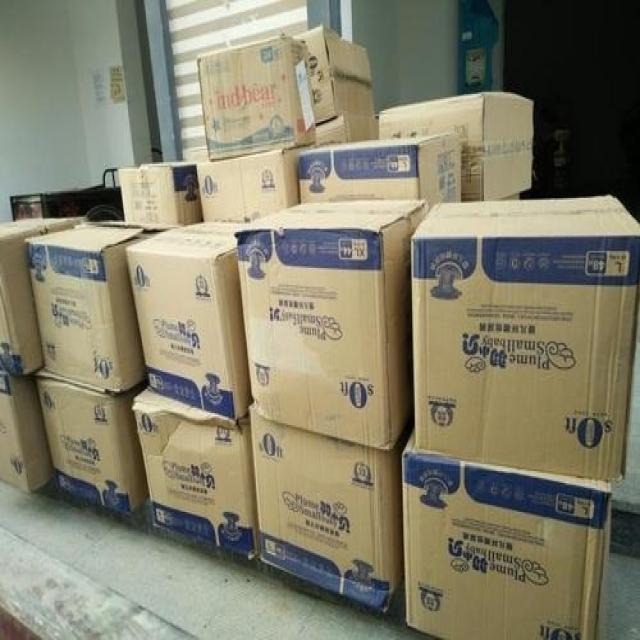box: (412, 196, 639, 480), (234, 200, 431, 450), (402, 428, 610, 638), (250, 415, 415, 612), (25, 220, 180, 394), (128, 224, 252, 419), (131, 388, 260, 560), (34, 371, 151, 517), (380, 92, 532, 202), (198, 36, 317, 159), (0, 216, 87, 376), (297, 132, 462, 204), (289, 26, 376, 124), (199, 146, 302, 224), (0, 372, 52, 495), (120, 161, 204, 225), (316, 113, 380, 147)
